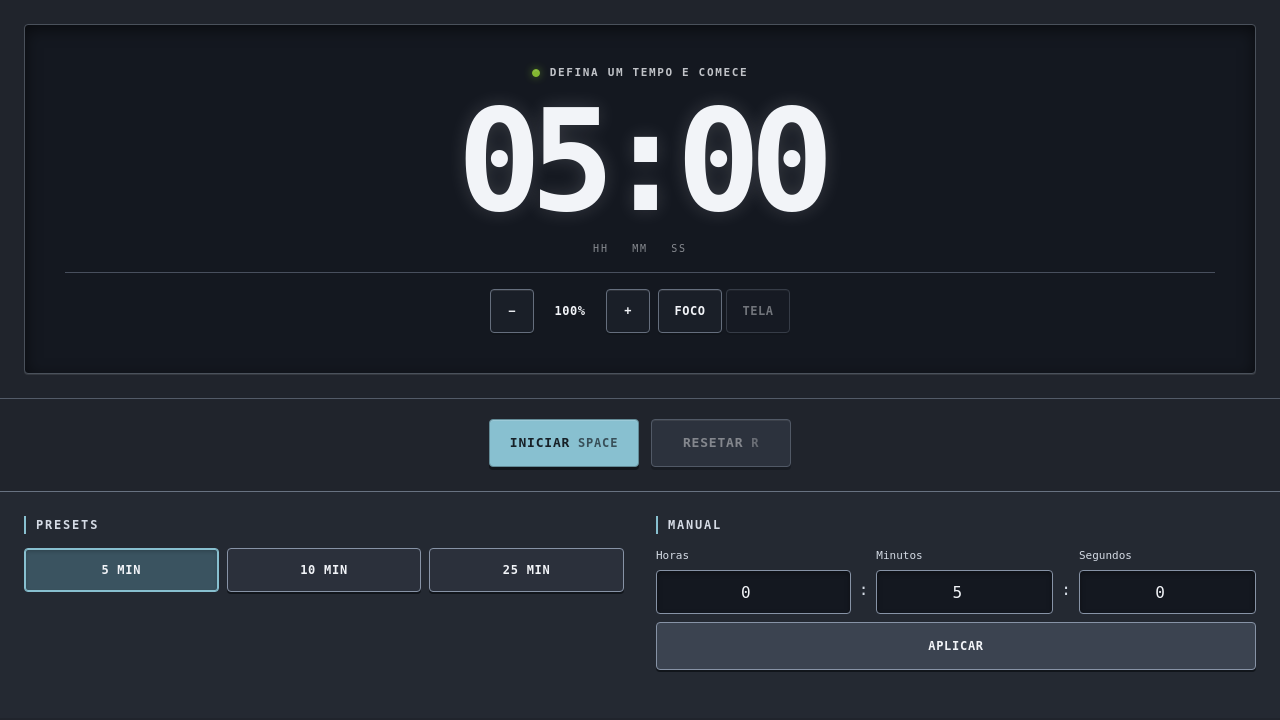
TimerPanel › disables configuration while running
Click the button with aria-label "Iniciar Timer" at (564, 443), box [489,419,639,467]
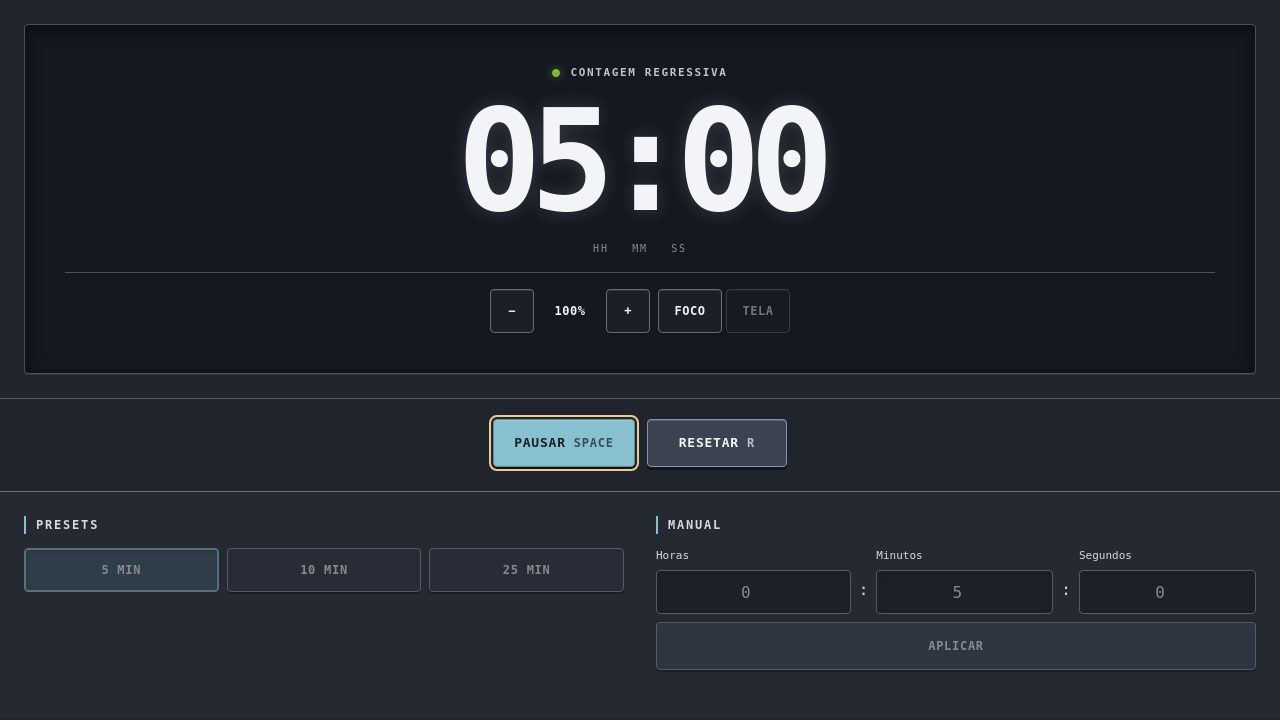
Expected: the number field labelled "Horas" is disabled, [656,570,851,614]
Now the button with aria-label "Pausar Timer" is shown, box [493,419,635,467]
